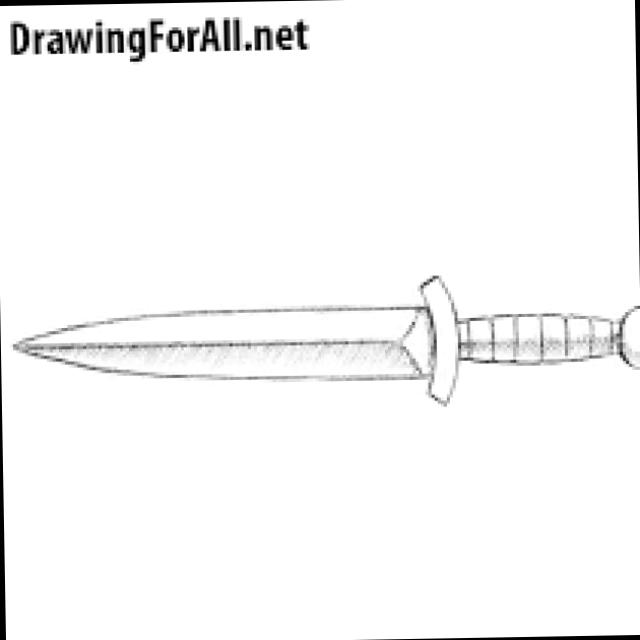Gun: (7, 244, 640, 422)
